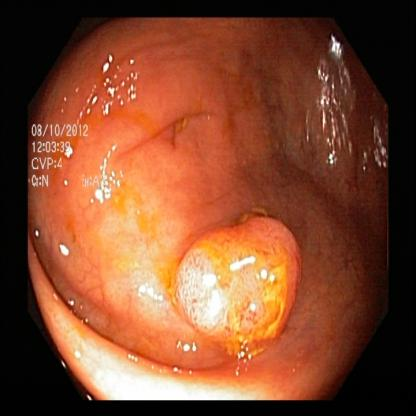Labels: (27, 107, 121, 208)
Polyps: (166, 212, 301, 373)
